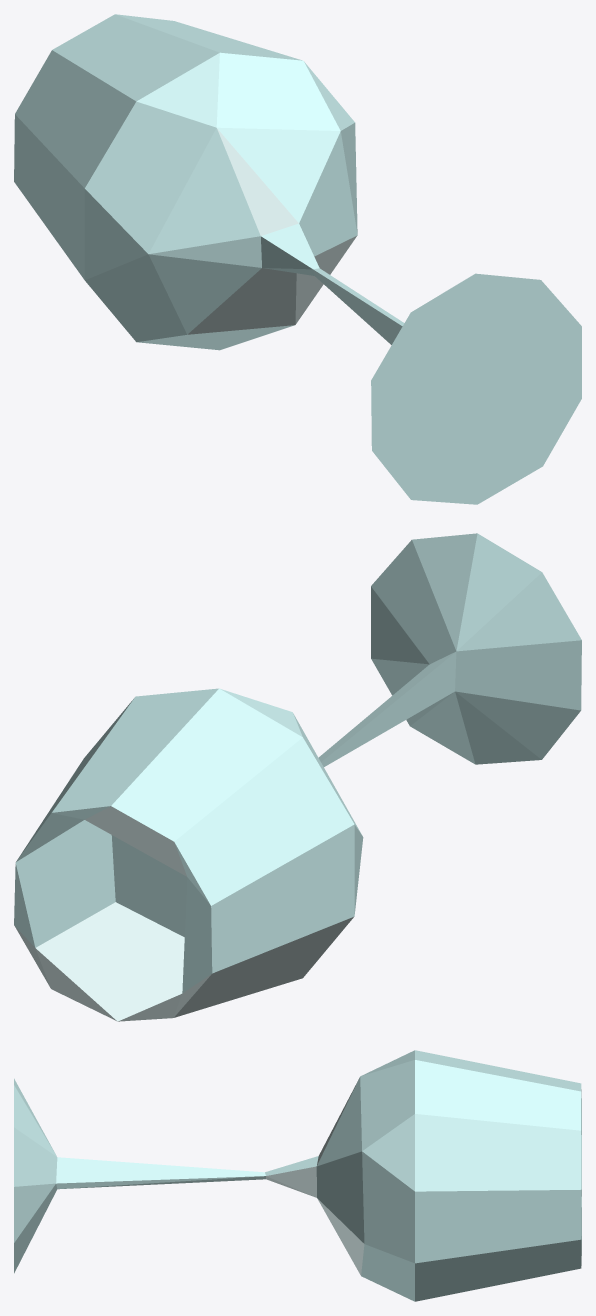
File: grass_1.fbx
The picture shows the model from 3 angles, top to bottom: view 1: azimuth 30°, elevation 25°; view 2: azimuth 150°, elevation 25°; view 3: azimuth 270°, elevation 25°; orthographic projection. The views are drawn at different scales.
Visible parts, largest first — view 1: grass_1; view 2: grass_1; view 3: grass_1.
Part boxes in pixels (<box>): grass_1: <box>14,14,581,504</box>; grass_1: <box>14,533,581,1021</box>; grass_1: <box>14,1050,581,1301</box>.
Size of the model in its own units: 39.61 by 41.65 by 92.27.
